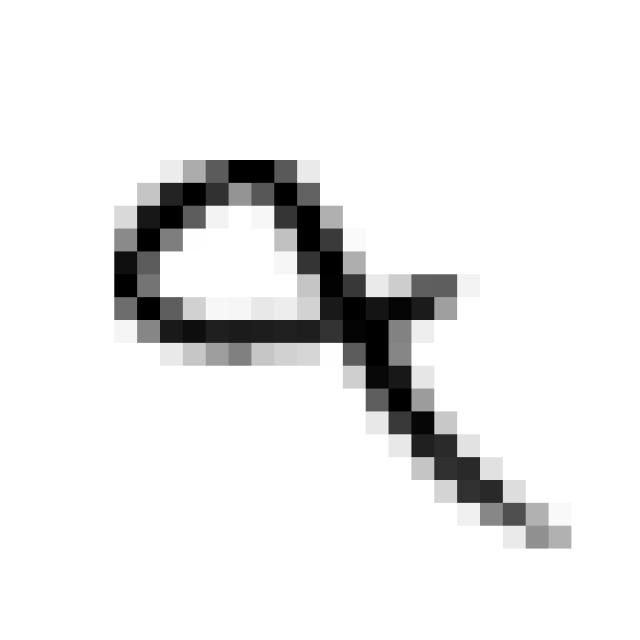9 -nine-: (85, 139, 587, 570)
